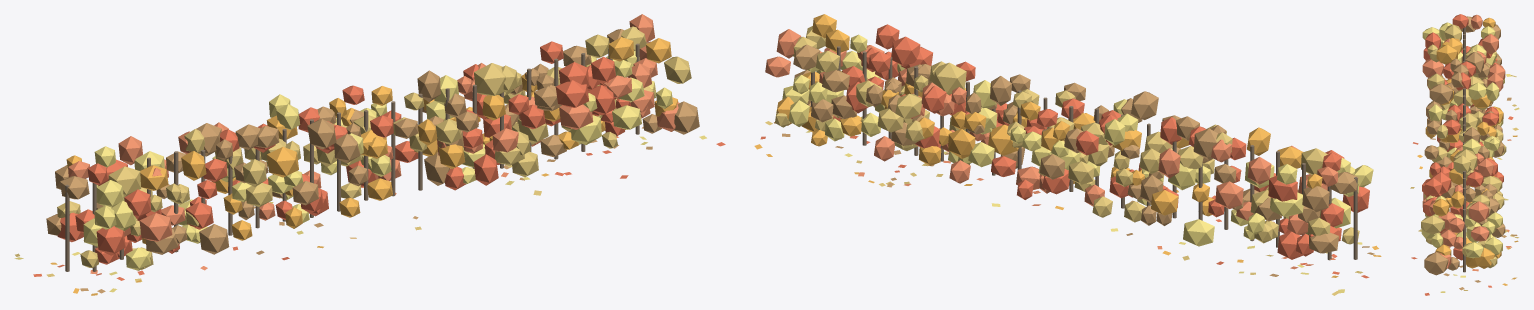
3 renders of one model, left to right at view 1: azimuth 30°, elevation 25°; view 2: azimuth 150°, elevation 25°; view 3: azimuth 270°, elevation 25°, orthographic. The views are drawn at different scales.
Visible parts, largest first — view 1: Icosphere.001, Icosphere.223, Icosphere.286, Icosphere.210, Icosphere.094, Icosphere.203, Icosphere.085, Icosphere.149, Icosphere.212, Icosphere.040, Icosphere.038, Icosphere.191 (+33 smaller); view 2: Icosphere.001, Icosphere.273, Icosphere.011, Icosphere.272, Icosphere.203, Icosphere.118, Icosphere.292, Icosphere.241, Icosphere.087, Icosphere.263, Icosphere.258, Icosphere.067 (+36 smaller); view 3: Icosphere.212, Icosphere.203, Icosphere.229, Icosphere.080, Icosphere.254, Icosphere.286, Icosphere.097, Icosphere.015, Icosphere.141, Icosphere.263, Icosphere.184, Icosphere.152 (+83 smaller).
Part boxes in pixels (x1,y1,x2,y2): Icosphere.001: (474,63,505,95); Icosphere.223: (266,147,298,177); Icosphere.286: (139,213,172,241); Icosphere.210: (555,80,588,107); Icosphere.094: (199,224,229,254); Icosphere.203: (307,119,336,149); Icosphere.085: (559,104,593,129); Icosphere.149: (96,226,125,255); Icosphere.212: (673,101,699,134); Icosphere.040: (108,166,141,197); Icosphere.038: (612,105,641,129); Icosphere.191: (96,180,123,207); Icosphere.001: (932,62,966,94); Icosphere.273: (1183,219,1214,246); Icosphere.011: (891,36,920,66); Icosphere.272: (948,129,975,158); Icosphere.203: (1131,91,1158,119); Icosphere.118: (1215,181,1243,208); Icosphere.292: (988,124,1018,155); Icosphere.241: (1302,186,1329,212); Icosphere.087: (1268,175,1297,201); Icosphere.263: (1193,128,1218,160); Icosphere.258: (1151,190,1178,215); Icosphere.067: (1270,192,1303,216); Icosphere.212: (1424,252,1448,275); Icosphere.203: (1429,83,1452,104); Icosphere.229: (1421,215,1444,234); Icosphere.080: (1468,201,1488,222); Icosphere.254: (1436,44,1457,64); Icosphere.286: (1422,59,1443,77); Icosphere.097: (1473,247,1494,268); Icosphere.015: (1424,178,1442,196); Icosphere.141: (1482,34,1498,54); Icosphere.263: (1465,52,1483,75); Icosphere.184: (1468,82,1486,99); Icosphere.152: (1453,155,1470,174).
Bounding box in the file's own units: 10.96 × 1.86 × 2.28.
